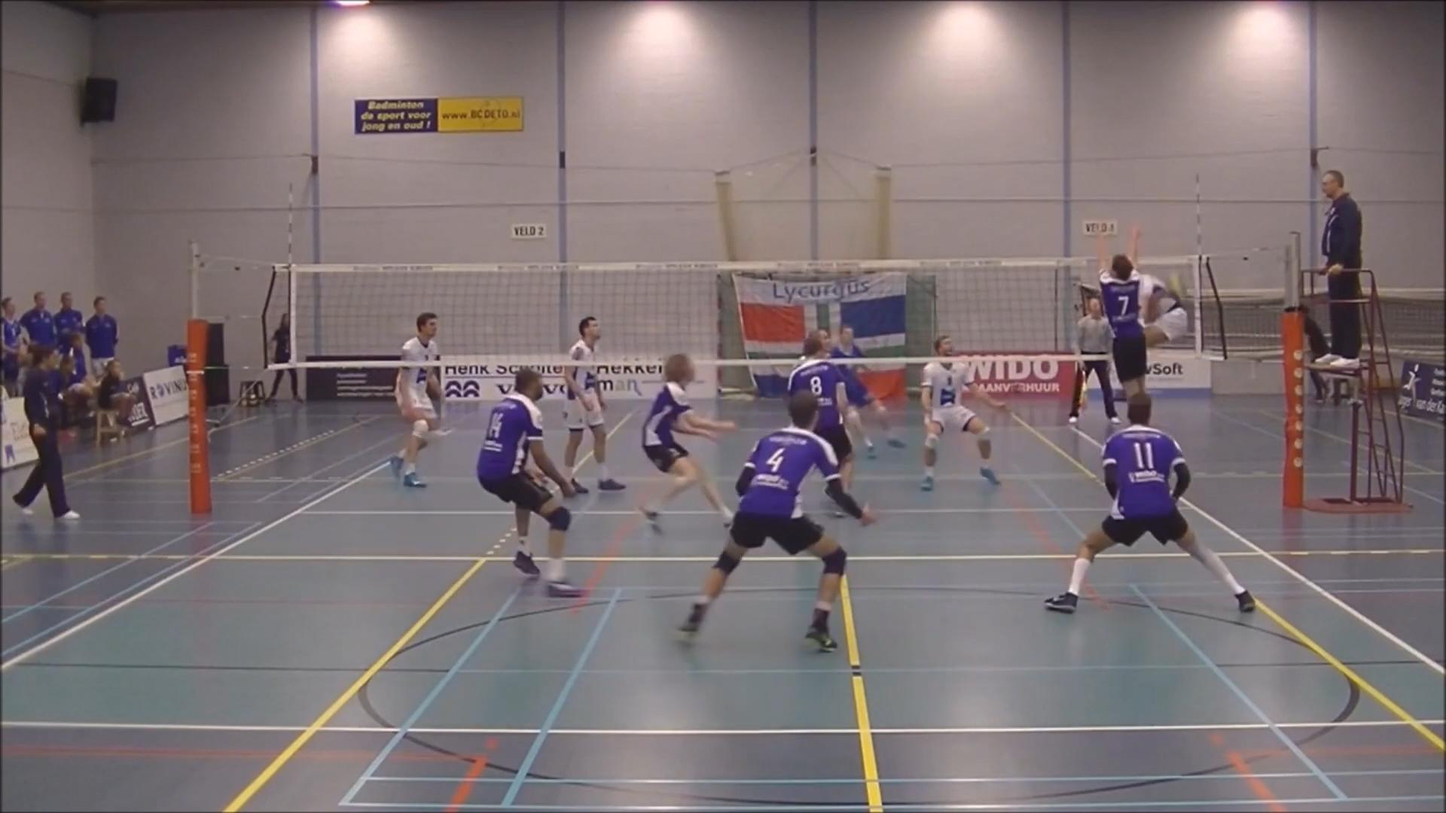Attack: (1127, 219, 1197, 376)
Block: (1089, 220, 1150, 395)
Player: (679, 391, 874, 651), (1046, 394, 1255, 613), (477, 368, 581, 596), (639, 354, 735, 528), (920, 361, 1007, 490), (563, 317, 625, 493), (788, 332, 854, 489), (389, 312, 445, 487), (839, 365, 905, 458)
